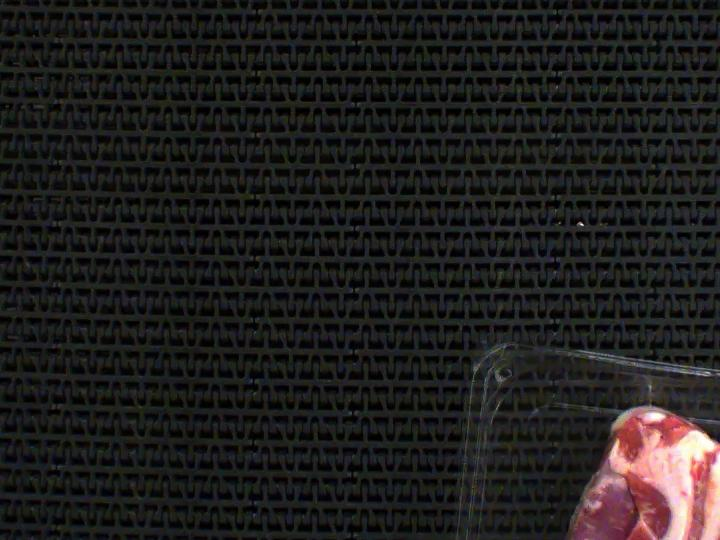packaging-error: (636, 368, 668, 411)
